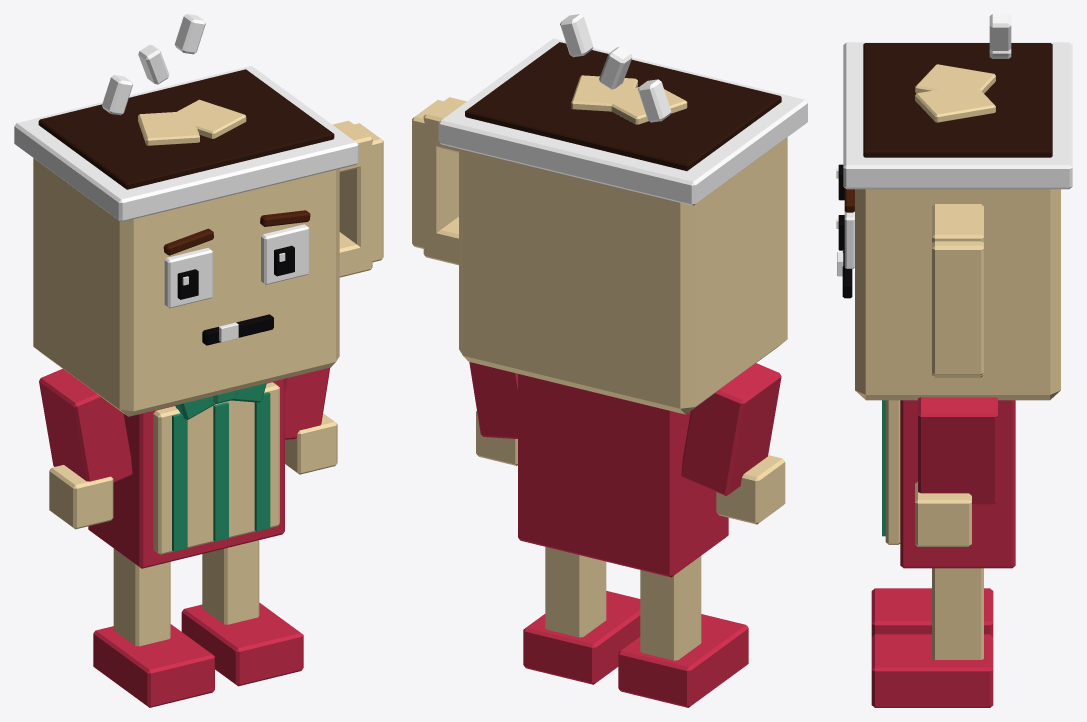
Rendered from BrainrotCoffeeKeeper.glb.
3 renders of one model, left to right at view 1: azimuth 30°, elevation 25°; view 2: azimuth 150°, elevation 25°; view 3: azimuth 270°, elevation 25°, orthographic. The views are drawn at different scales.
Parts seen in each view (by area): view 1: BrainrotCoffeeKeeper; view 2: BrainrotCoffeeKeeper; view 3: BrainrotCoffeeKeeper.
Boxes of the visible parts, box(x1,y1,x2,y2) form: BrainrotCoffeeKeeper: box(14, 14, 383, 707); BrainrotCoffeeKeeper: box(412, 14, 807, 707); BrainrotCoffeeKeeper: box(836, 14, 1072, 707).
Bounding box in the file's own units: 3.24 × 6.06 × 1.95.
Materials: 1 (1 with a texture image).
